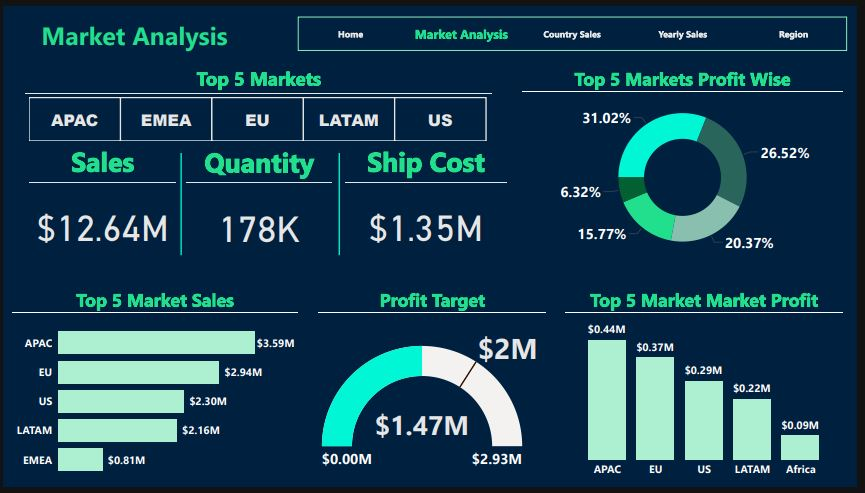

Layout of this report page (visuals, bound fields, positions):
{"tool":"powerbi","page":{"name":"Market Analysis","canvas":[1280,720],"ordinal":1},"visuals":[{"type":"columnChart","title":"Top 5 Market Market Profit","fields":{"Y":["Sum(Sales Data.Profit)"],"Category":["Sales Data.Market"]},"box":[842.9,420.7,416.4,293.5],"z":0},{"type":"barChart","title":"Top 5 Market Sales","fields":{"Category":["Sales Data.Market"],"Y":["Sum(Sales Data.Sales)"]},"box":[14.5,420.7,428,299.3],"z":1000},{"type":"donutChart","title":"Top 5 Markets Profit Wise","fields":{"Category":["Sales Data.Market"],"Y":["Sum(Sales Data.Profit)"]},"box":[777.8,89.6,481.4,297.8],"z":2000},{"type":"gauge","title":"Profit Target ","fields":{"Y":["Sum(Sales Data.Profit)"]},"box":[472.8,420.7,341.2,294.9],"z":3000},{"type":"advancedSlicerVisual","title":"Top 5 Markets","fields":{"Values":["Sales Data.Market"]},"box":[34,89.4,699,116.2],"z":4000},{"type":"textbox","box":[0,14.3,395.1,75.1],"z":5000},{"type":"card","title":"Sales","fields":{"Values":["Sum(Sales Data.Sales)"]},"box":[40.5,205.3,218.3,182.2],"z":6000},{"type":"card","title":"Quantity","fields":{"Values":["Sum(Sales Data.Quantity)"]},"box":[275.3,205.6,218.1,182.3],"z":7000},{"type":"card","title":"Ship Cost","fields":{"Values":["Sum(Sales Data.Shipping_Cost)"]},"box":[513.3,205.3,241.4,182.2],"z":8000},{"type":"shape","box":[493,219.8,21.7,153.3],"z":9000},{"type":"shape","box":[258.8,219.8,15.9,153.3],"z":10000},{"type":"pageNavigator","box":[442.4,15.9,822.7,50.6],"z":10001}]}

Visuals, with their boxes in screenshot pixels (x1, y1, x2, y2), scaled from the page's 1280x720 canvas onto the 865x493 screenshot:
"Top 5 Market Market Profit" columnChart: 570 288 851 489
"Top 5 Market Sales" barChart: 10 288 299 492
"Top 5 Markets Profit Wise" donutChart: 526 61 851 265
"Profit Target " gauge: 320 288 550 490
"Top 5 Markets" advancedSlicerVisual: 23 61 495 141
textbox: 0 10 267 61
"Sales" card: 27 141 175 265
"Quantity" card: 186 141 333 266
"Ship Cost" card: 347 141 510 265
shape: 333 151 348 255
shape: 175 151 186 255
pageNavigator: 299 11 855 46
